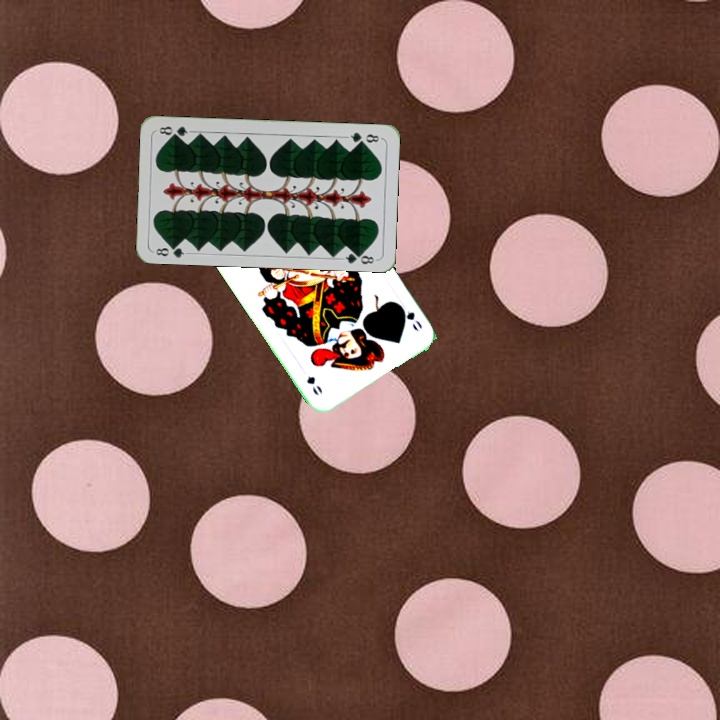G8: (152, 240, 191, 260), (343, 128, 384, 146)
GO: (395, 299, 425, 334)
